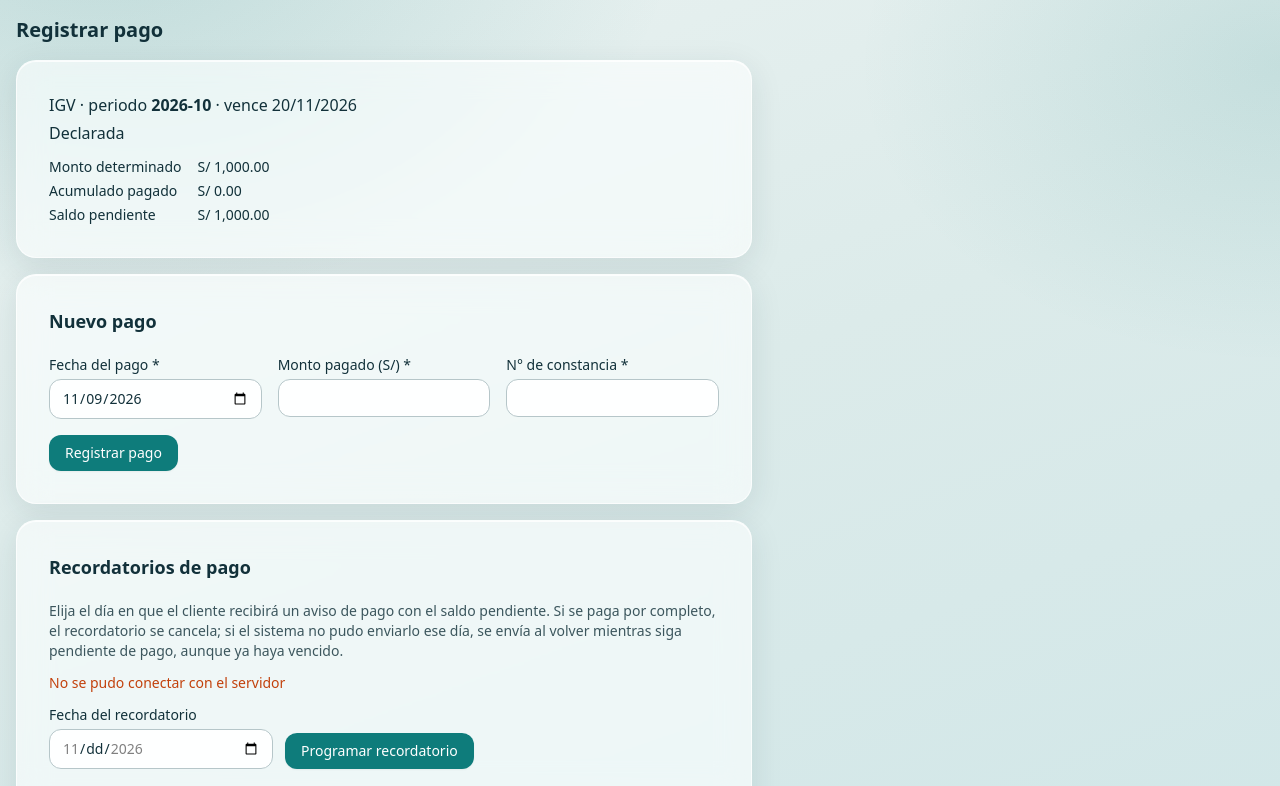
Test: Registrar pago (HU-13, tarea 7) › sin datos no se envía y cada campo avisa lo suyo
This screenshot has width=1280, height=786.
expect the text "Declarada" is shown: met, box 49,122 -> 125,144
Step 1. Clear the field labelled "N° de constancia *" → (613, 398), box 506,379 -> 719,417
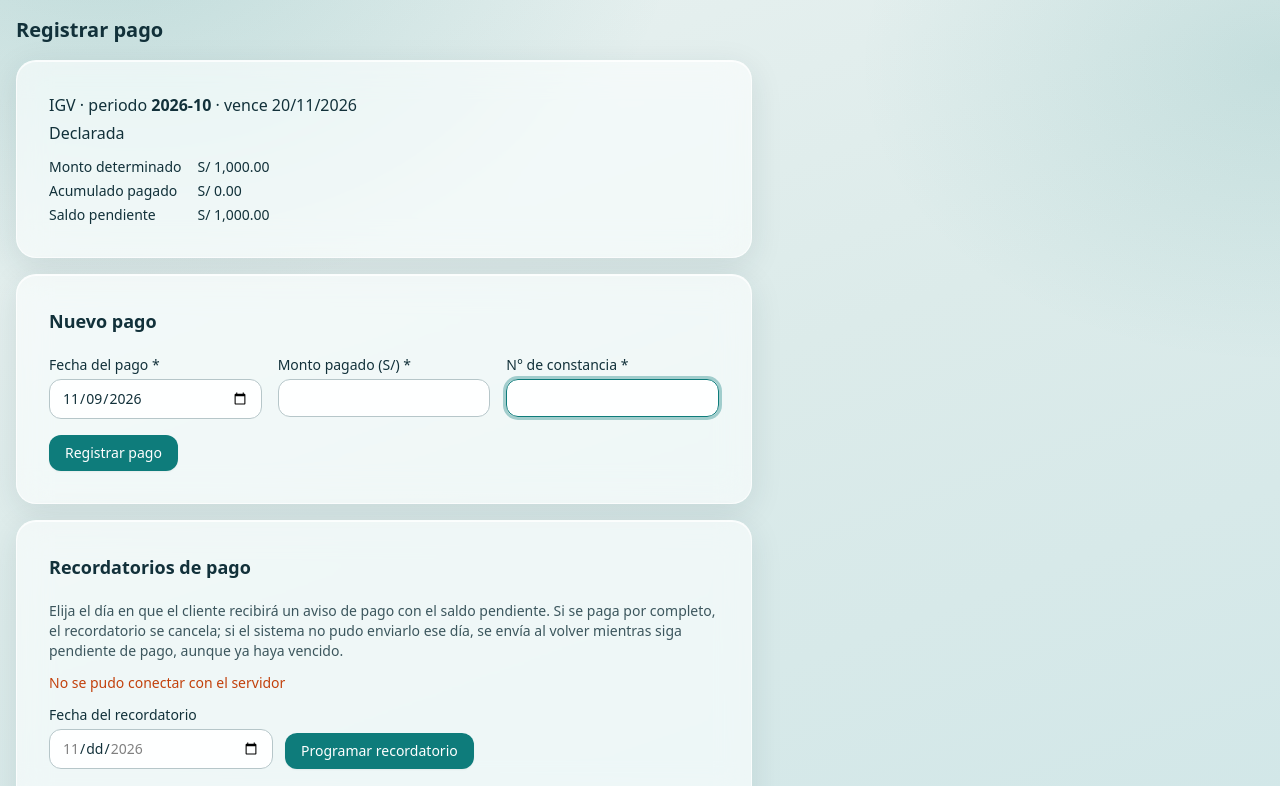
Step 2. Click the button "Registrar pago" → (113, 453), box 49,435 -> 178,471
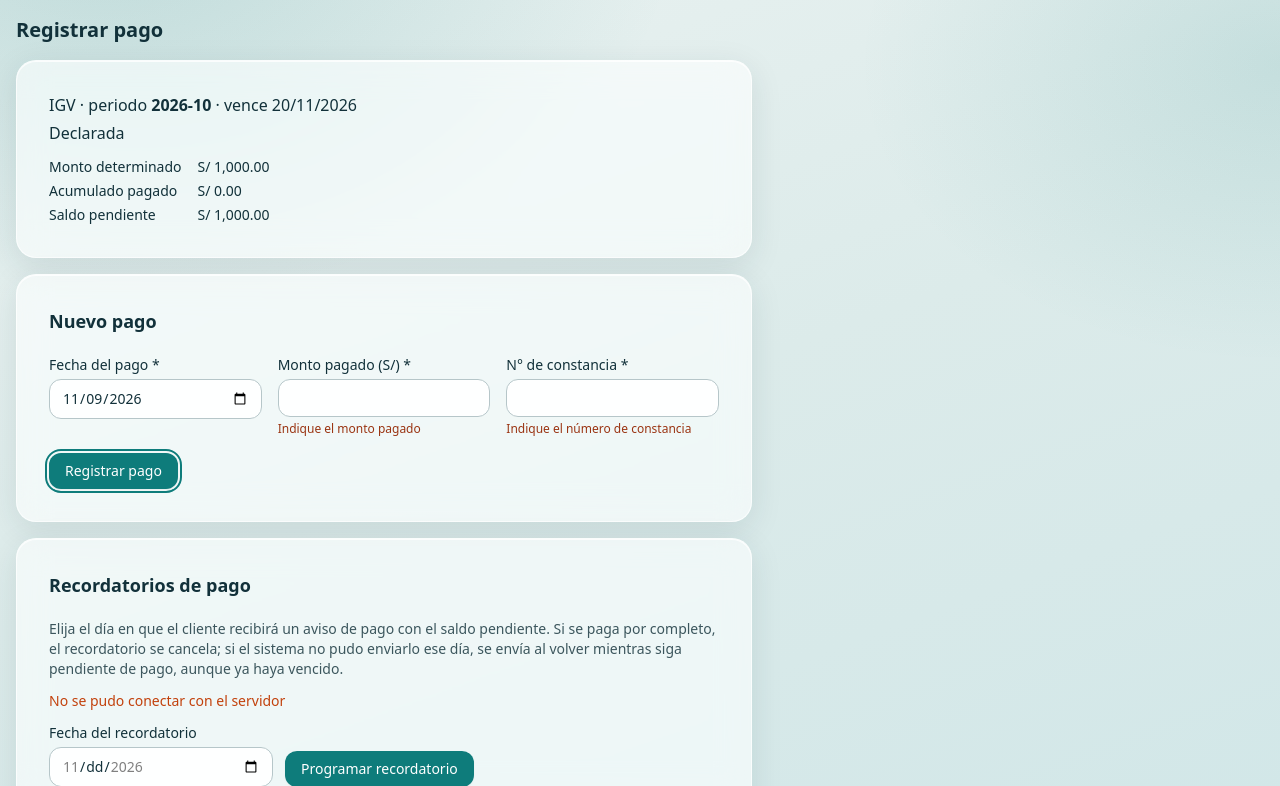
expect the text "Indique el monto pagado" is shown: met, box 278,420 -> 421,437
expect the text "Indique el número de constancia" is shown: met, box 506,421 -> 719,437
